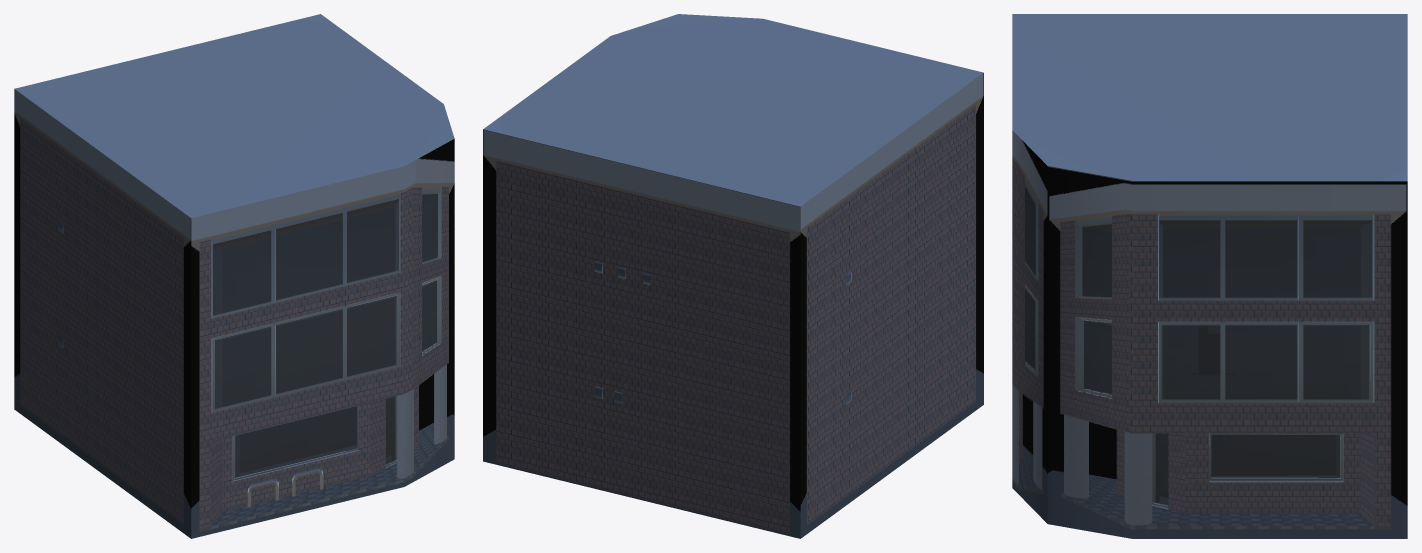
File: building5_low.fbx
3 renders of one model, left to right at view 1: azimuth 30°, elevation 25°; view 2: azimuth 150°, elevation 25°; view 3: azimuth 270°, elevation 25°, orthographic. The views are drawn at different scales.
Parts seen in each view (by area): view 1: pCube1; view 2: pCube1; view 3: pCube1.
Boxes of the visible parts, bbox=[...] form: pCube1: bbox=[14, 14, 454, 538]; pCube1: bbox=[483, 14, 983, 538]; pCube1: bbox=[1012, 14, 1407, 538].
Bounding box in the file's own units: 1 × 1 × 1.
